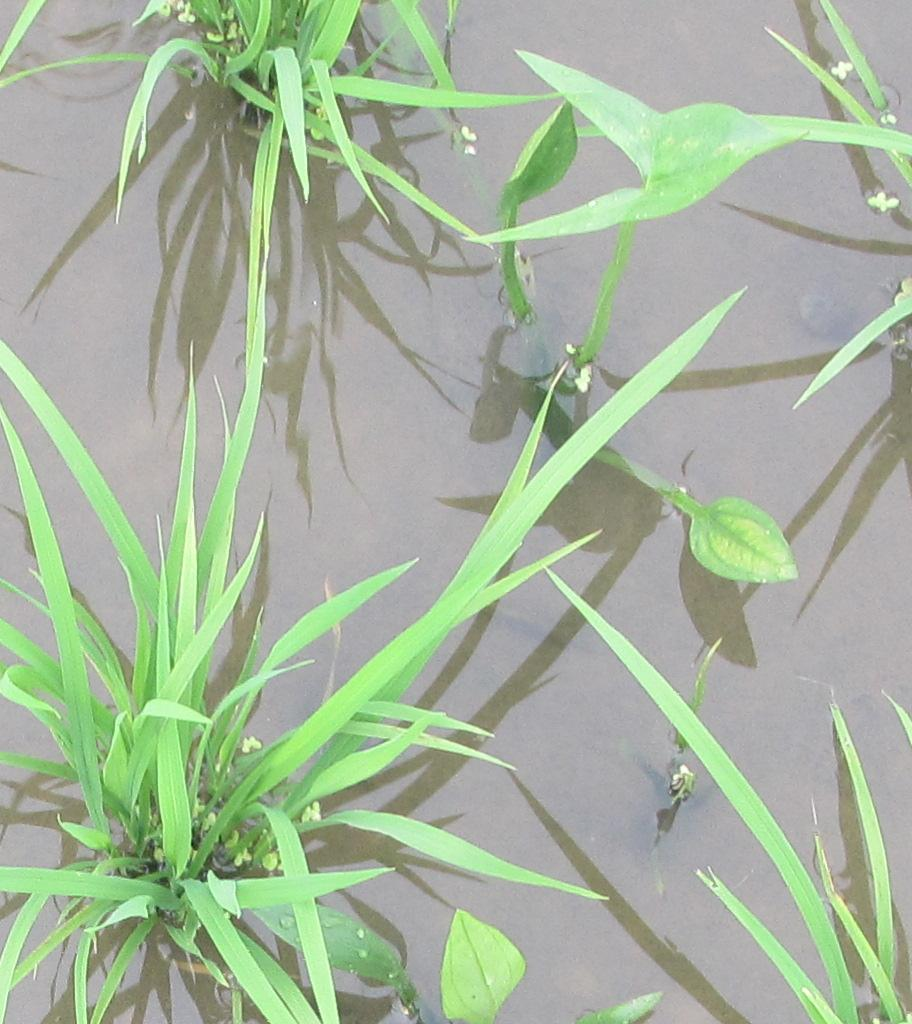Weed: (541, 67, 912, 213), (660, 483, 811, 607), (428, 900, 544, 1019)
